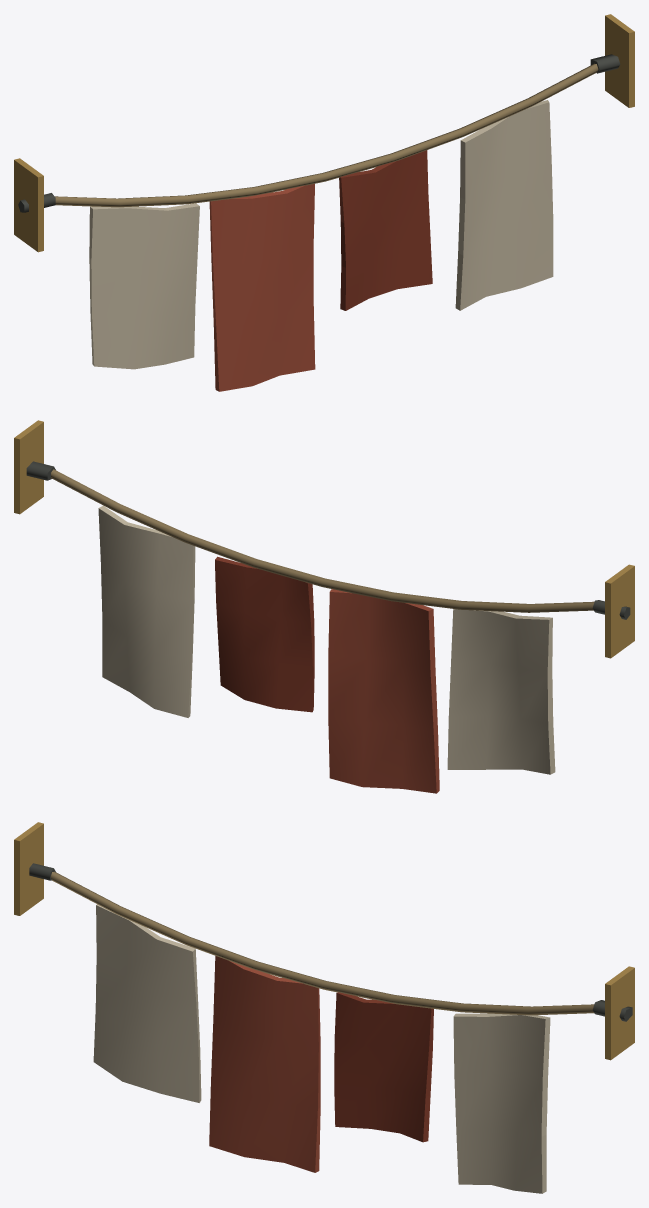
File: laundry_line.glb
3 renders of one model, top to bottom at view 1: azimuth 30°, elevation 25°; view 2: azimuth 150°, elevation 25°; view 3: azimuth 330°, elevation 25°, orthographic.
Visible parts, largest first — view 1: laundry_line; view 2: laundry_line; view 3: laundry_line.
Part boxes in pixels (box(x1,y1,x2,y2)): laundry_line: box(14, 14, 634, 391); laundry_line: box(14, 420, 634, 793); laundry_line: box(14, 822, 634, 1193).
Size of the model in its own units: 2.03 by 0.8705 by 0.14.
